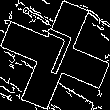L_SW: (31, 26, 79, 84)
